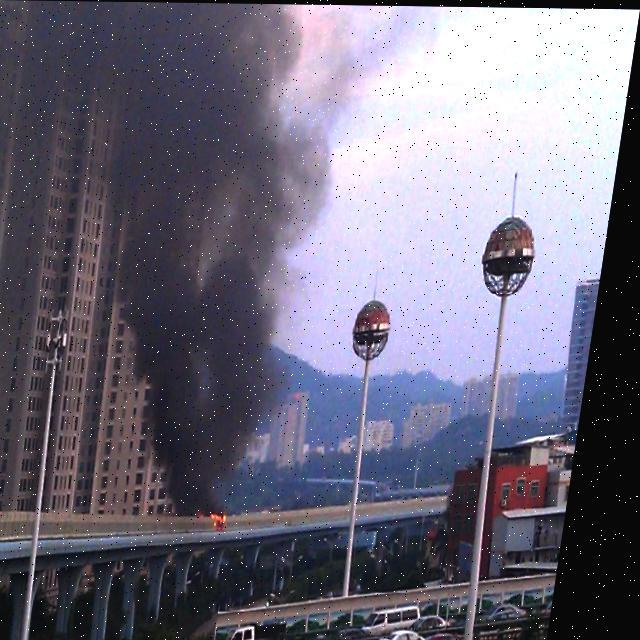Fire: (208, 499, 246, 534)
